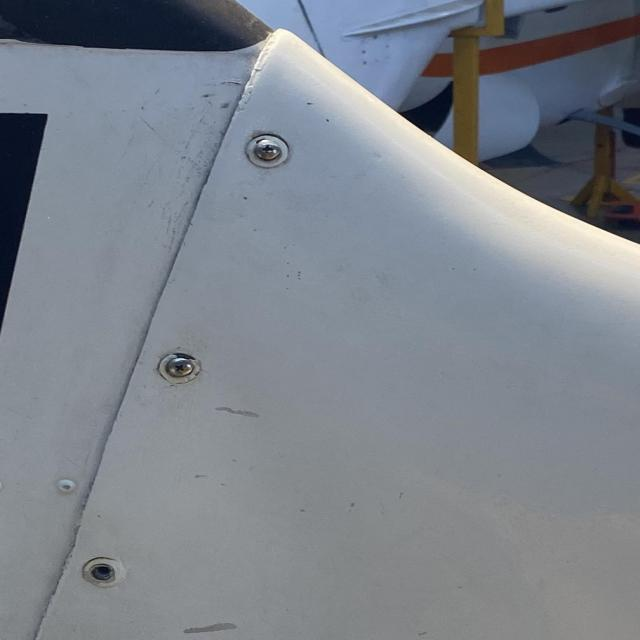Missing-head: (79, 557, 124, 589)
Paint-off: (182, 623, 236, 636), (215, 407, 260, 419)
